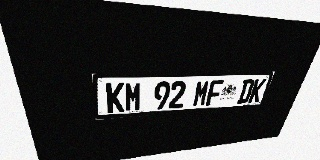2: (168, 81, 187, 109)
9: (153, 81, 171, 110)
D: (237, 79, 255, 104)
F: (205, 80, 224, 106)
K: (106, 82, 124, 113), (248, 79, 267, 103)
M: (192, 80, 211, 107), (125, 82, 142, 112)
